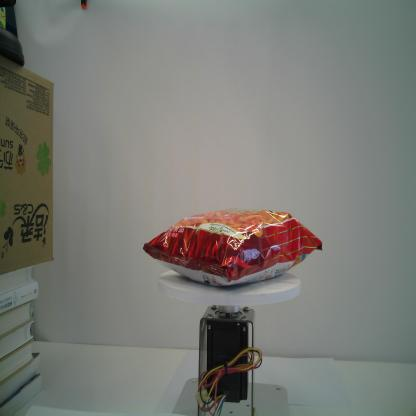Puffed Food: (142, 208, 324, 288)
